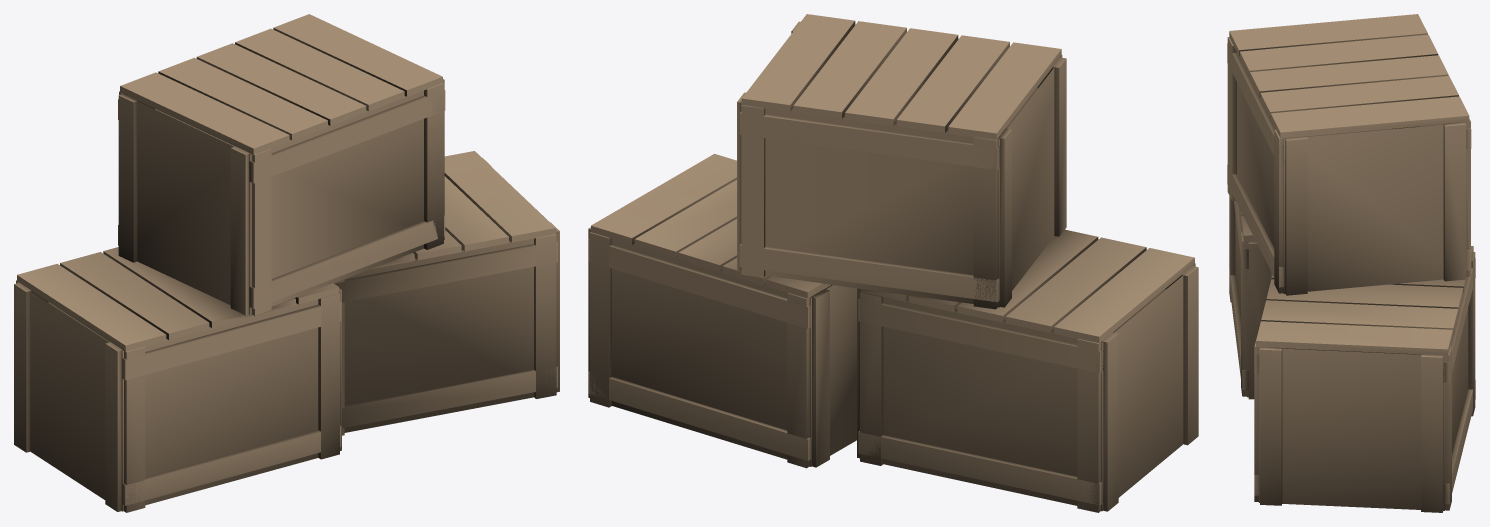
The model's file is crate_stack.glb.
The picture shows the model from 3 angles, left to right: view 1: azimuth 30°, elevation 25°; view 2: azimuth 150°, elevation 25°; view 3: azimuth 270°, elevation 25°; orthographic projection. The views are drawn at different scales.
Parts seen in each view (by area): view 1: crate_stack; view 2: crate_stack; view 3: crate_stack.
Part boxes in pixels (x1,y1,x2,y2): crate_stack: [14, 14, 559, 512]; crate_stack: [588, 14, 1198, 512]; crate_stack: [1227, 14, 1475, 512].
Size of the model in its own units: 1.72 by 1.14 by 0.7964.
